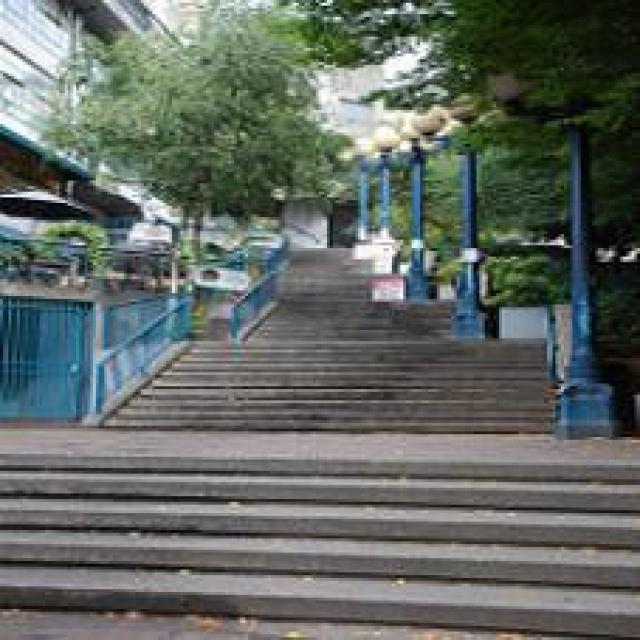upstair: (117, 390, 489, 633)
